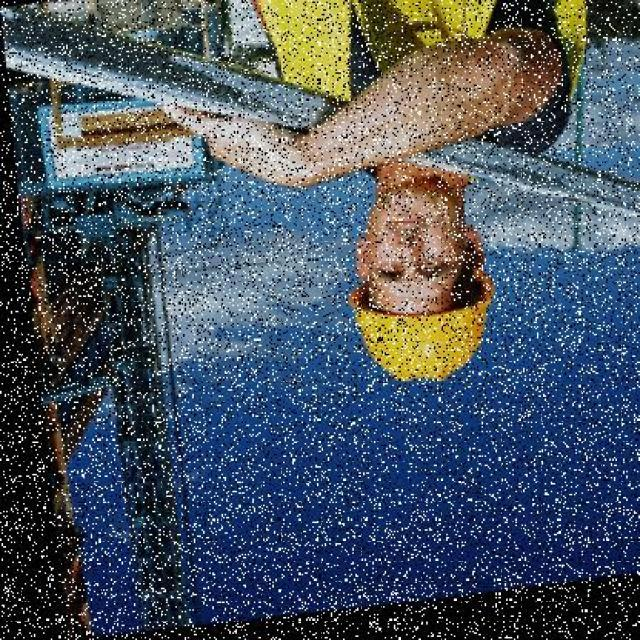helmet: (331, 295, 500, 405)
